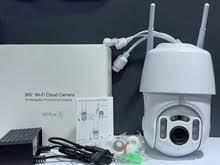maru: (146, 43, 212, 155)
